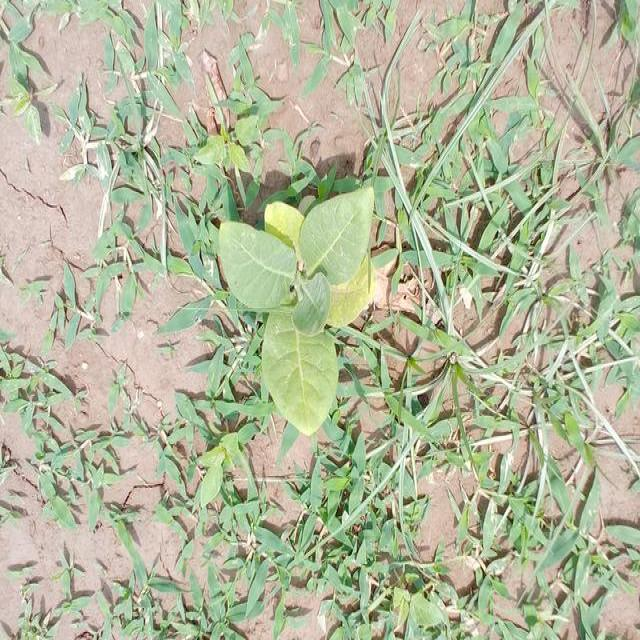crop: (216, 183, 387, 429)
